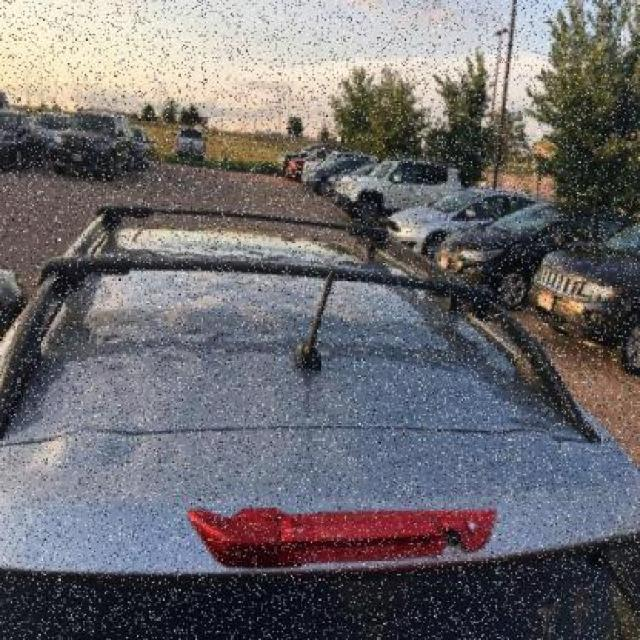roof-dent: (80, 235, 422, 563)
